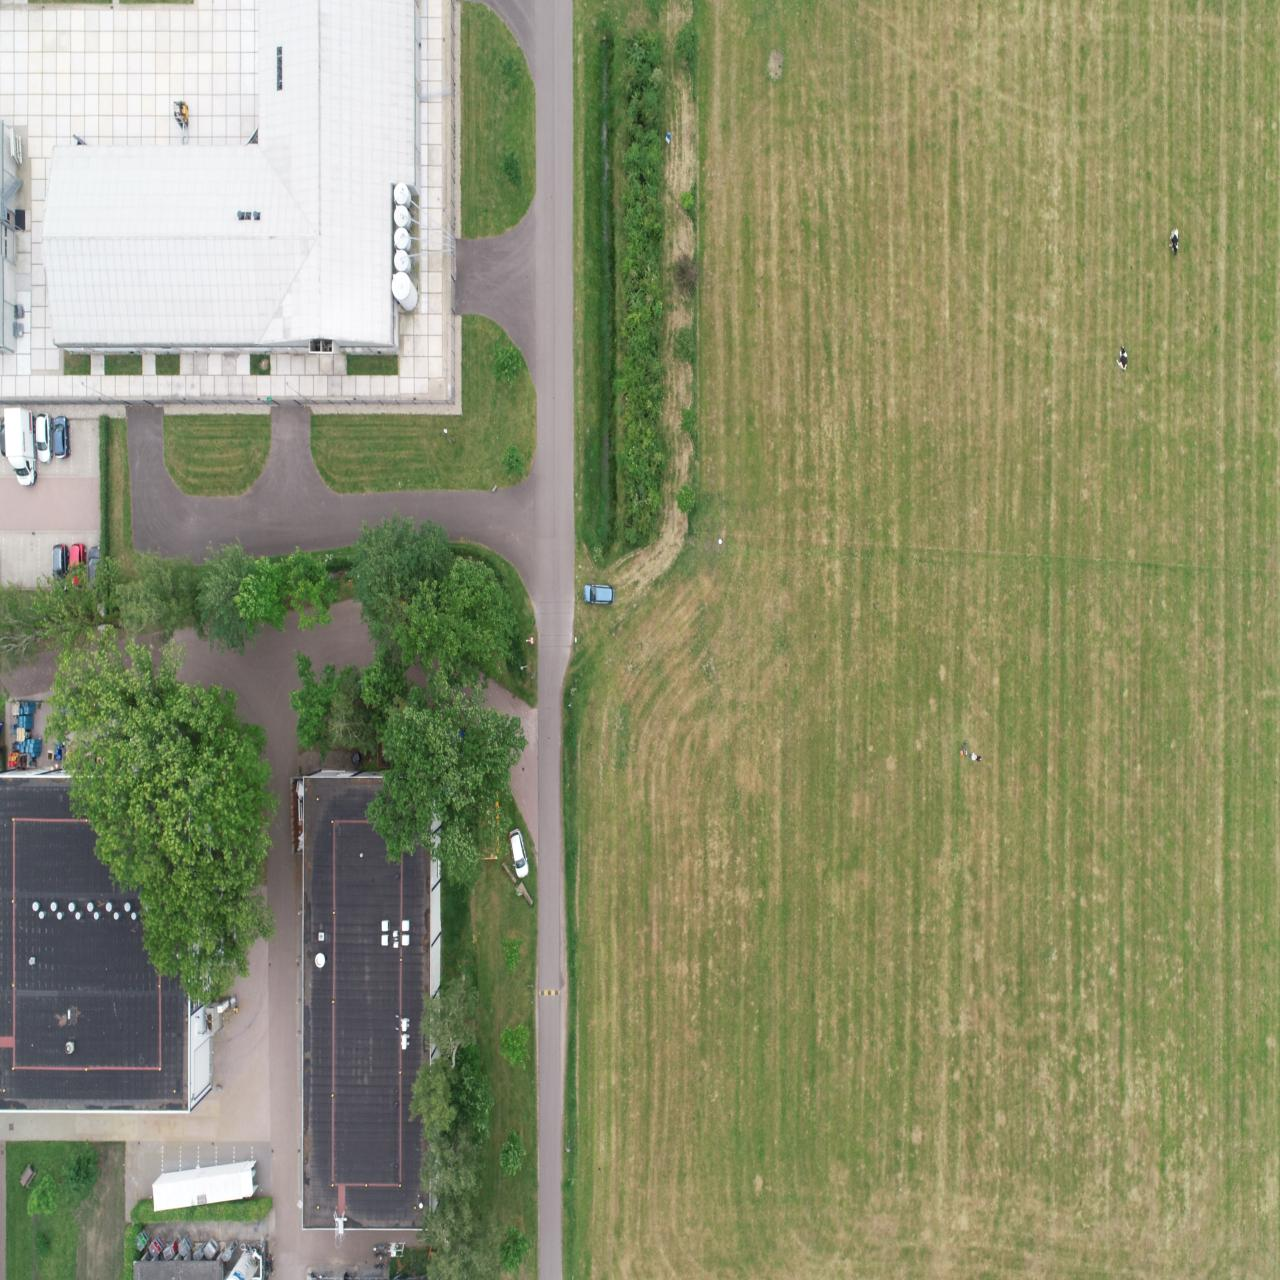cow: (1116, 343, 1129, 372), (1168, 225, 1180, 256)
